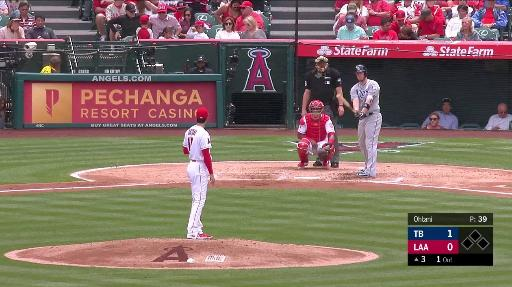pitcher: (182, 107, 217, 240)
